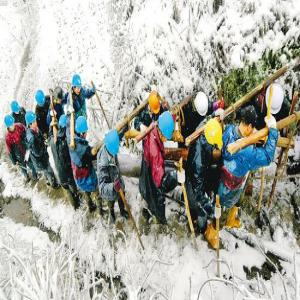blue: (105, 128, 121, 166), (158, 111, 175, 146), (75, 114, 89, 144), (25, 111, 39, 134), (72, 72, 83, 98), (5, 113, 17, 135), (52, 89, 64, 110), (36, 89, 47, 110), (58, 113, 68, 135), (11, 99, 21, 118)
none: (239, 104, 257, 143)
white: (265, 80, 285, 117), (193, 90, 209, 121)
yellow: (202, 120, 224, 157), (147, 93, 160, 119)
